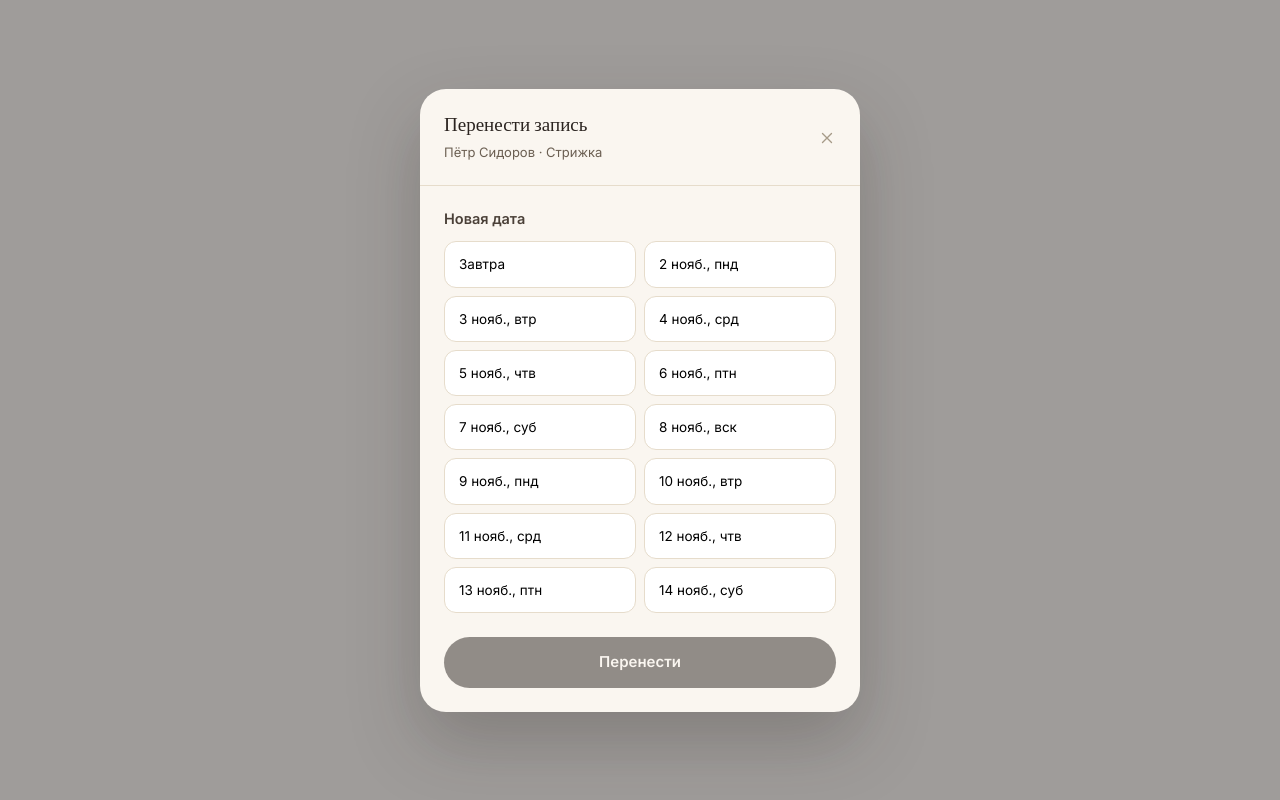
Scenario: RescheduleModal — F7: reads the time grid from the server, not a hand-rolled generator › passes extendedHours=true once the "show the rest of the hours" toggle is used
Click the button "Завтра" at (540, 264), box [444,241,636,288]
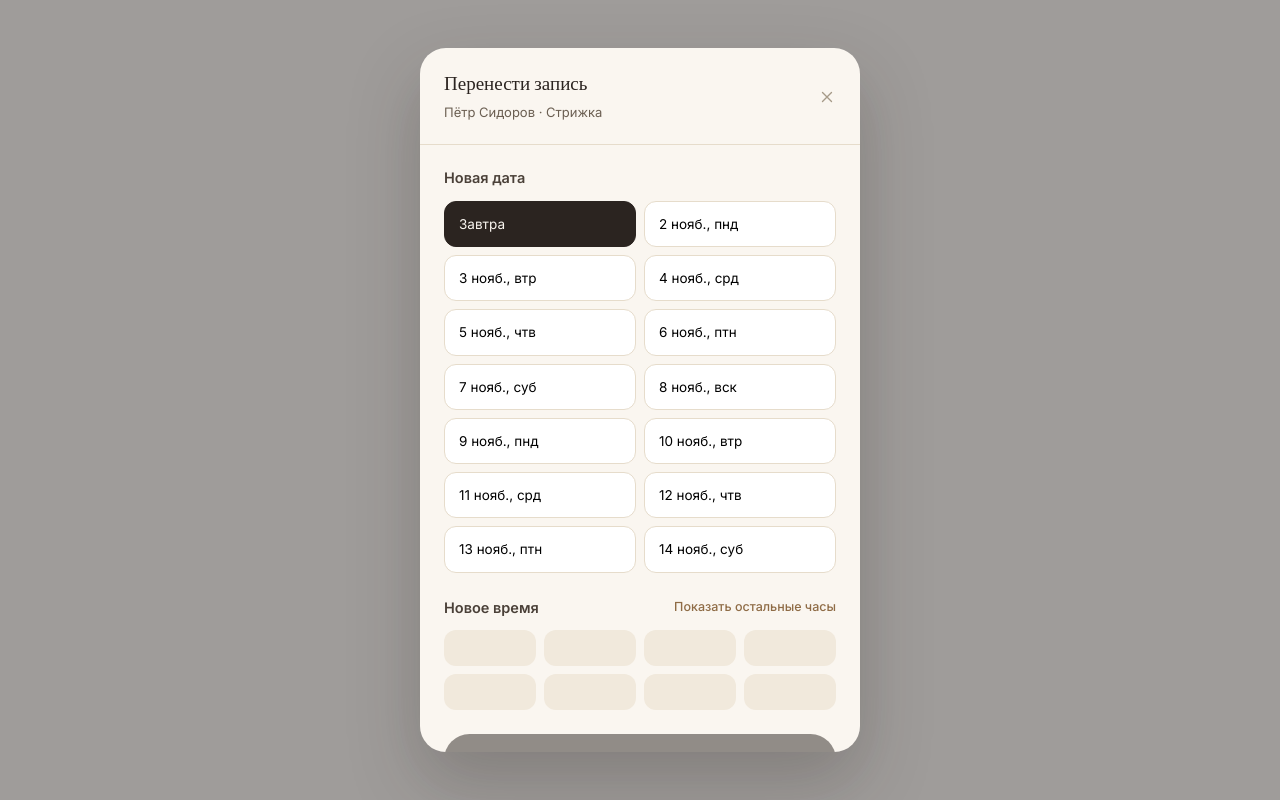
Click the button "Показать остальные часы" at (755, 607), box [674,598,836,617]
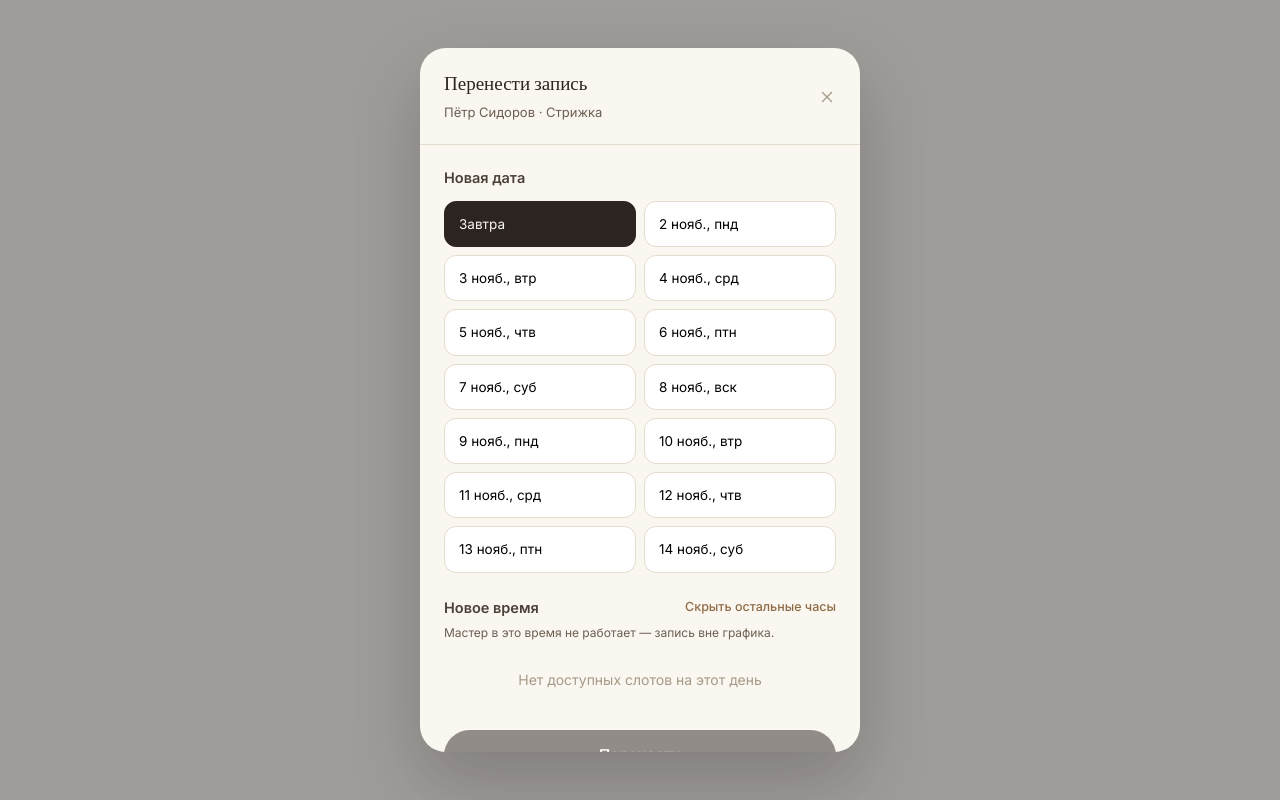
expect the text "Мастер в это время не работает — запись вне графика." is shown: met, box [444,625,774,640]
